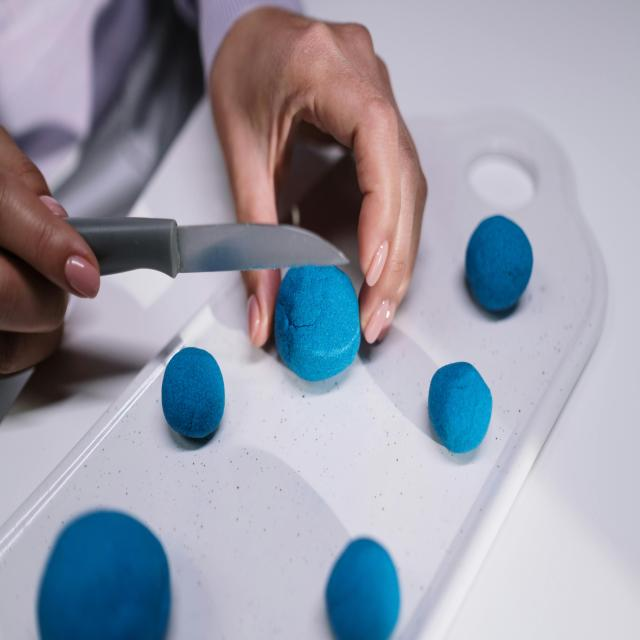knife: (66, 215, 351, 278)
